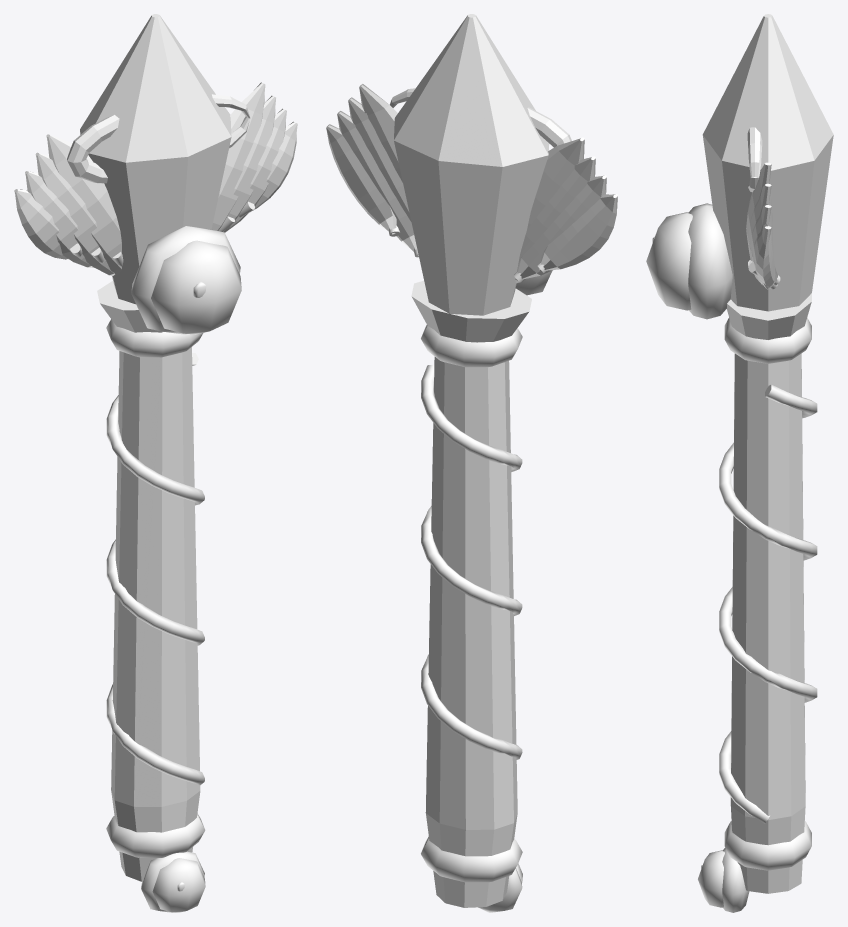
Rendered from shovel.obj.
3 renders of one model, left to right at view 1: azimuth 30°, elevation 25°; view 2: azimuth 150°, elevation 25°; view 3: azimuth 270°, elevation 25°, orthographic. The views are drawn at different scales.
Visible parts, largest first — view 1: handle, head, ornaments; view 2: handle, head, ornaments; view 3: handle, head, ornaments.
Part boxes in pixels (left/top/right/bottom): handle: left=97, top=281, right=205, bottom=912; head: left=14, top=14, right=297, bottom=304; ornaments: left=67, top=94, right=250, bottom=334; handle: left=411, top=280, right=531, bottom=912; head: left=326, top=14, right=617, bottom=315; ornaments: left=390, top=88, right=571, bottom=295; handle: left=698, top=293, right=817, bottom=912; head: left=702, top=14, right=833, bottom=311; ornaments: left=646, top=127, right=762, bottom=319.
Size of the model in its own units: 0.314 by 0.9422 by 0.1788.
